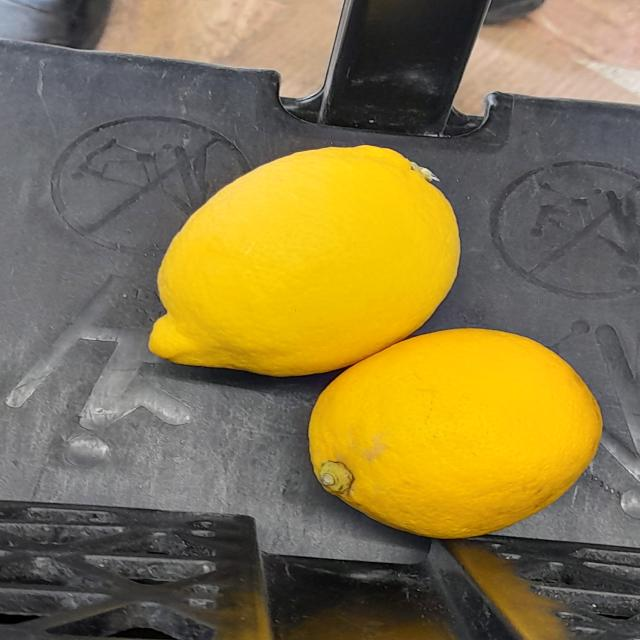lemon: (122, 133, 472, 384), (280, 310, 624, 555)
